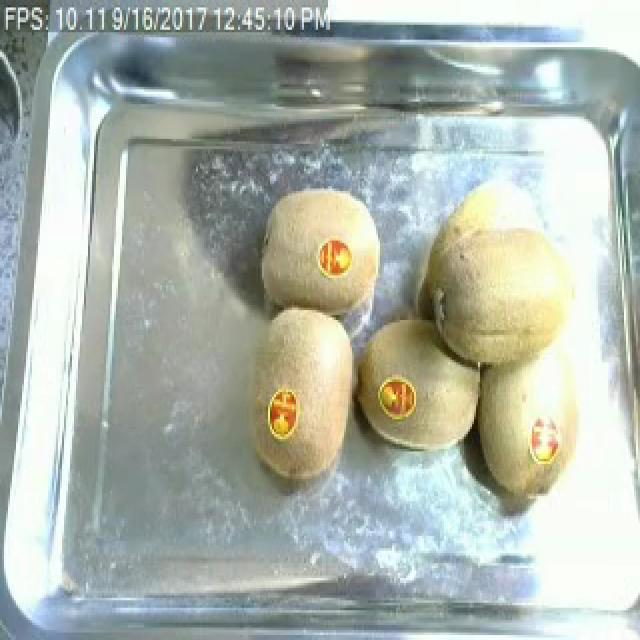Fruit: (412, 196, 590, 382), (462, 317, 608, 508), (252, 295, 366, 491), (356, 307, 486, 464), (250, 181, 388, 305)
